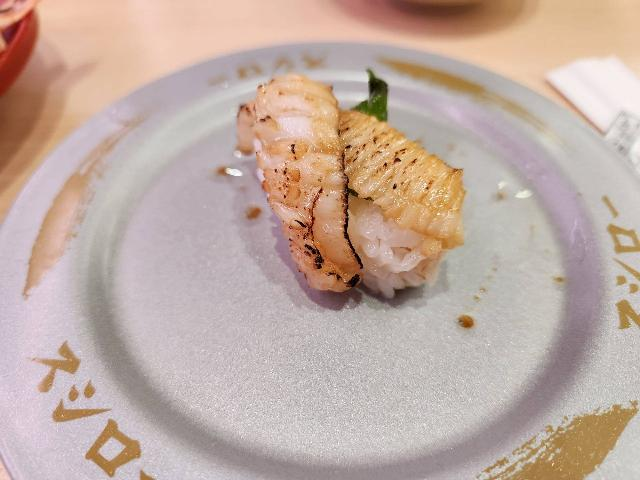janwhite: (47, 14, 601, 480)
